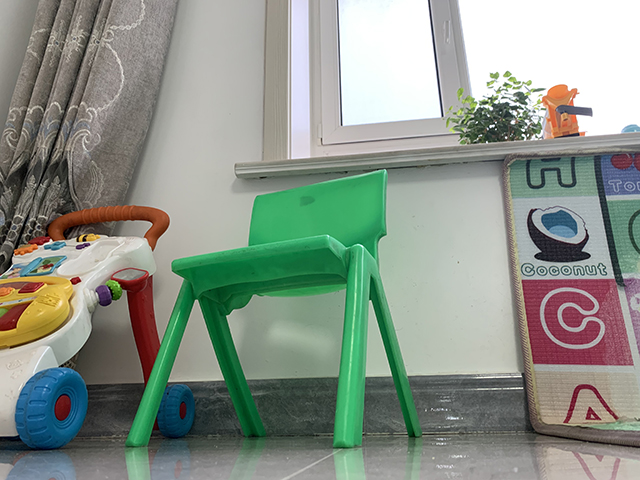stool: (122, 168, 426, 450)
